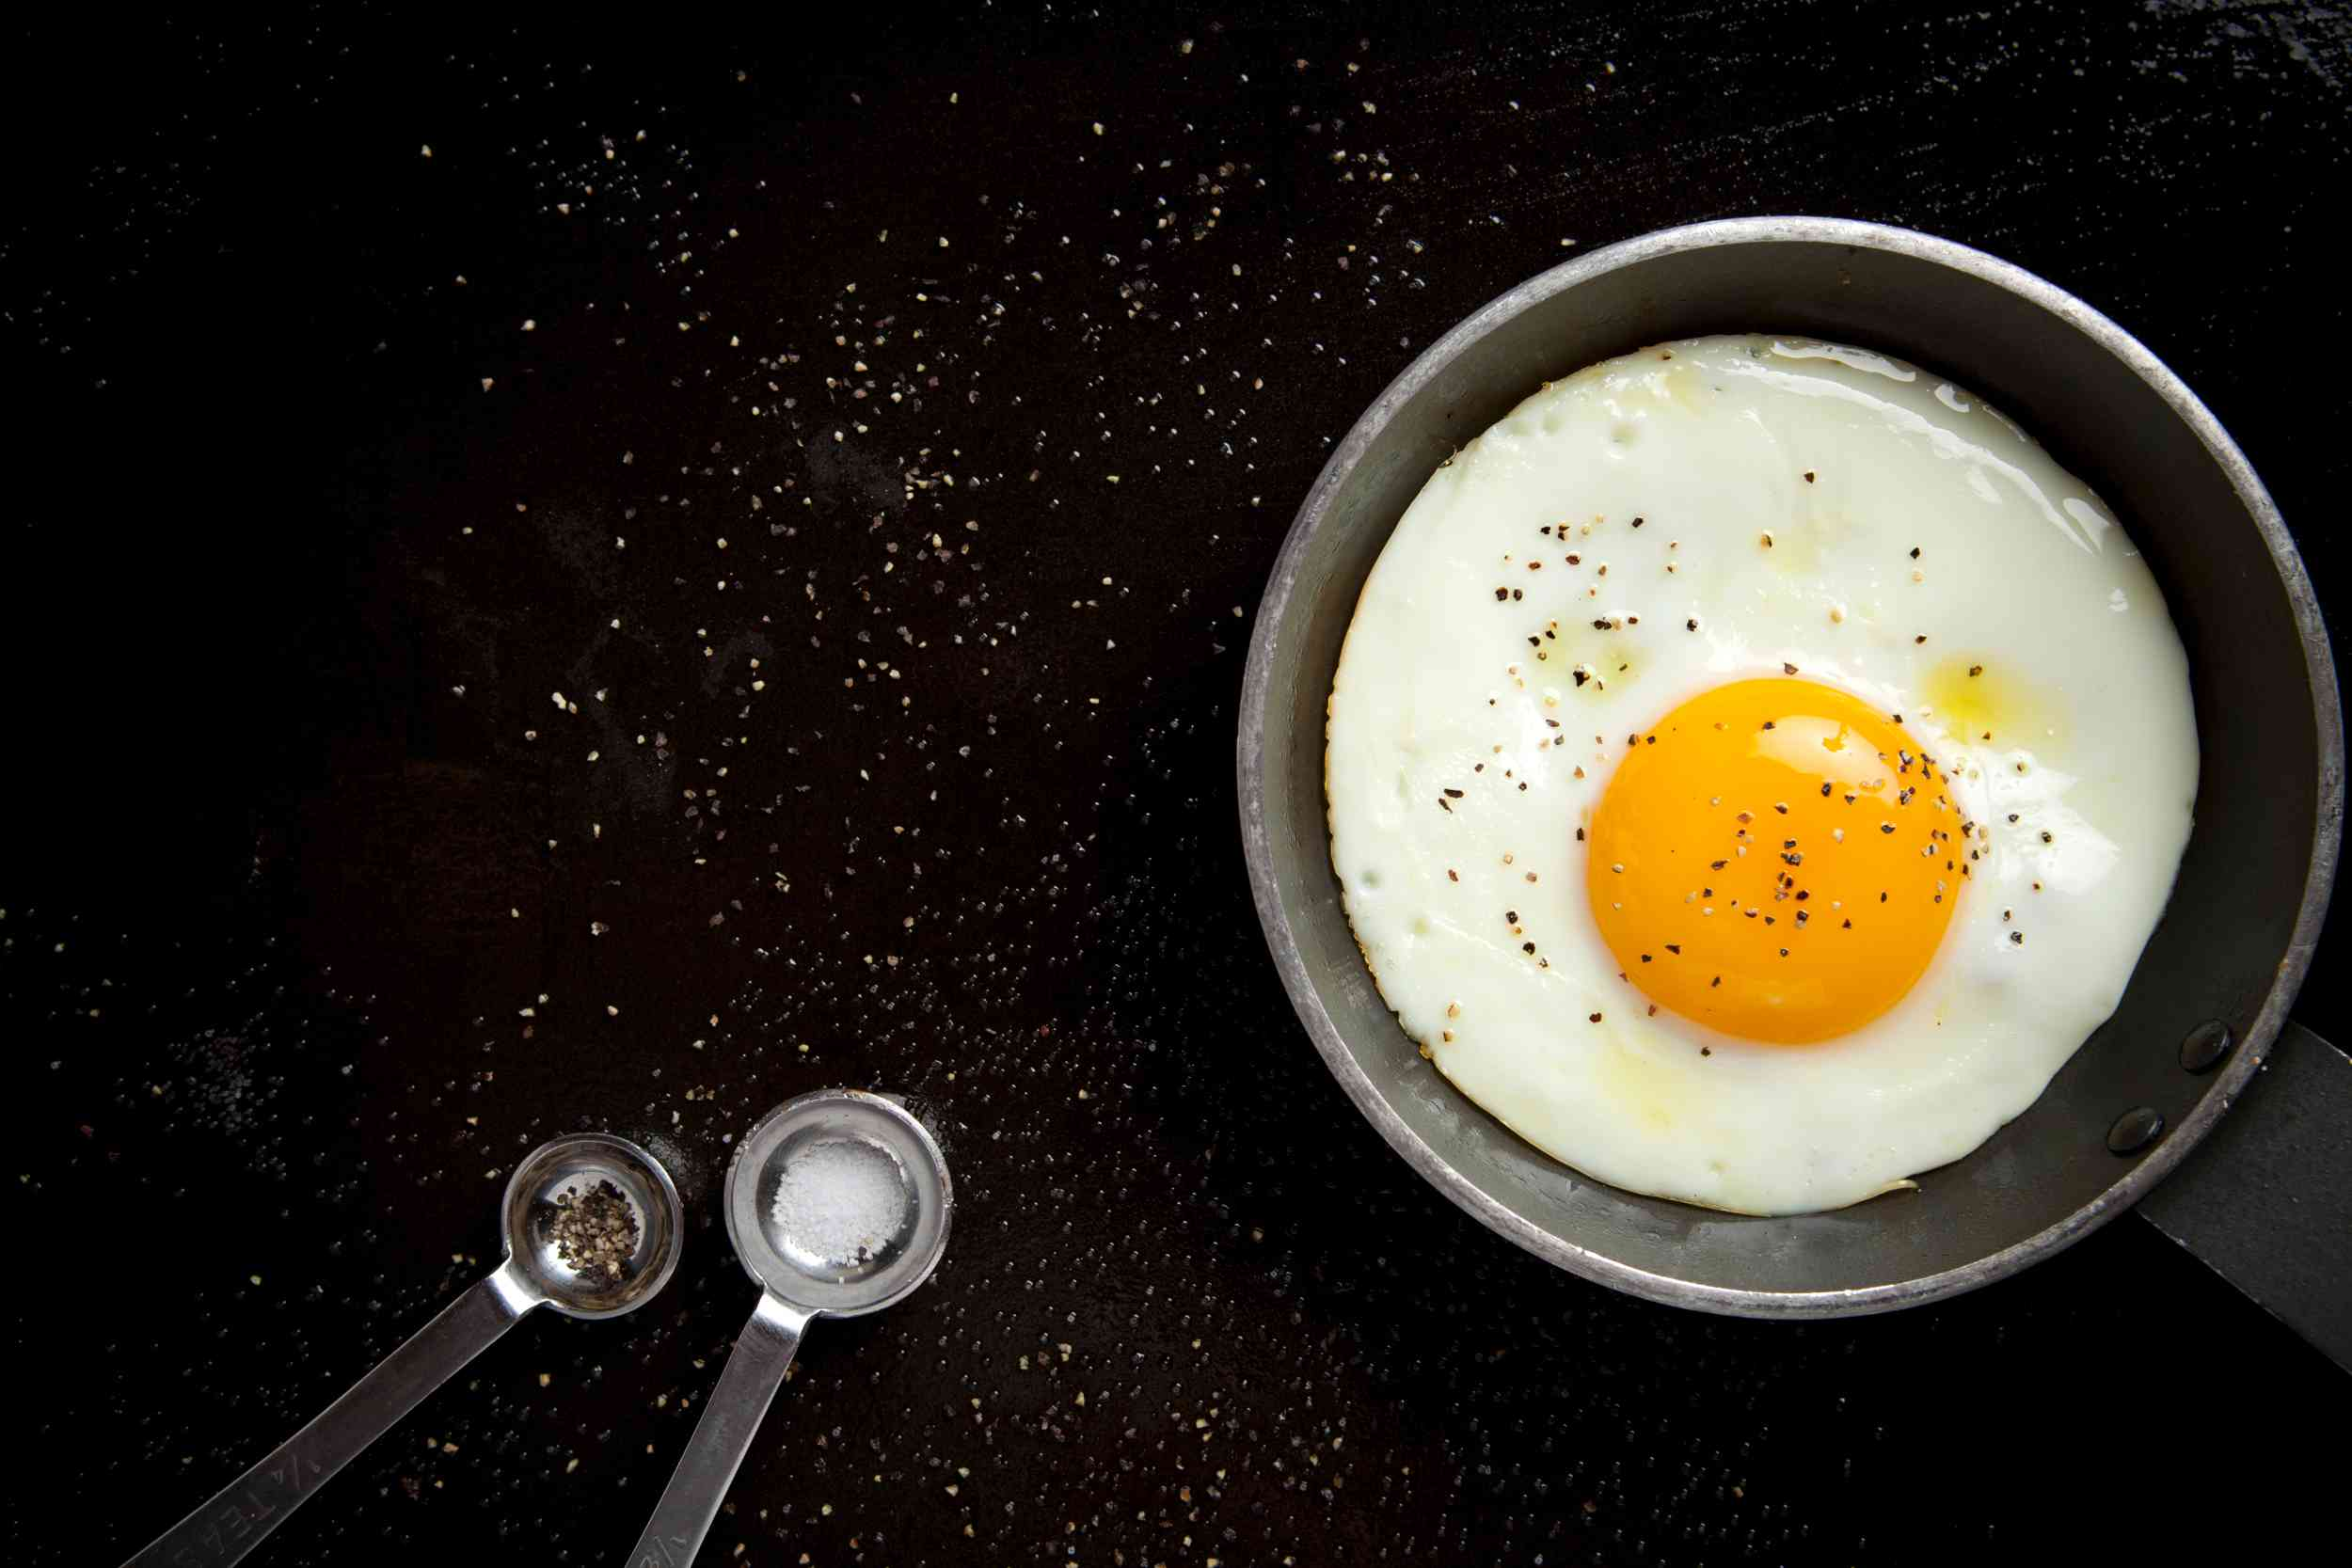fried egg: (1405, 395, 2123, 1148)
